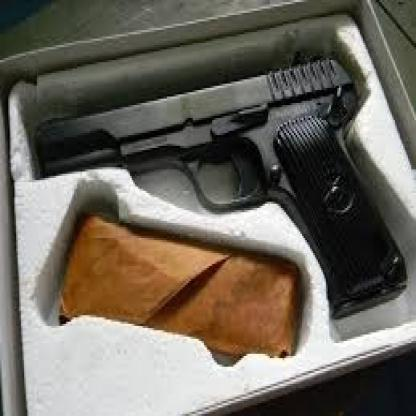Pistol: (26, 35, 412, 378)
